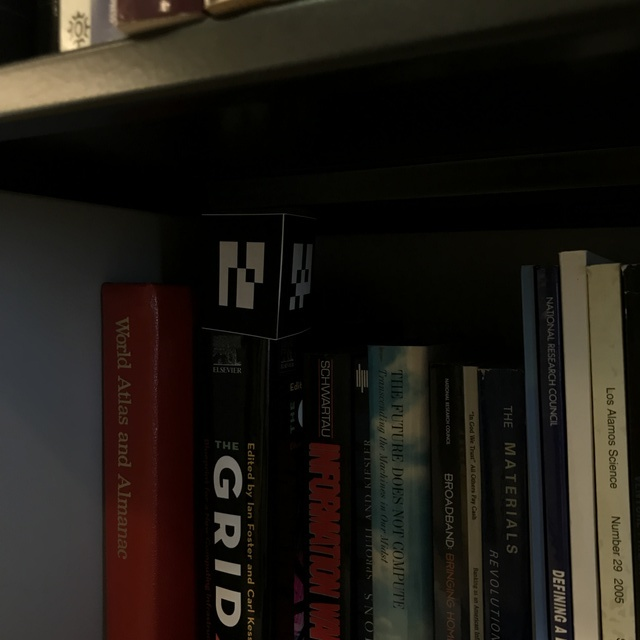ARTag: (198, 212, 319, 340)
